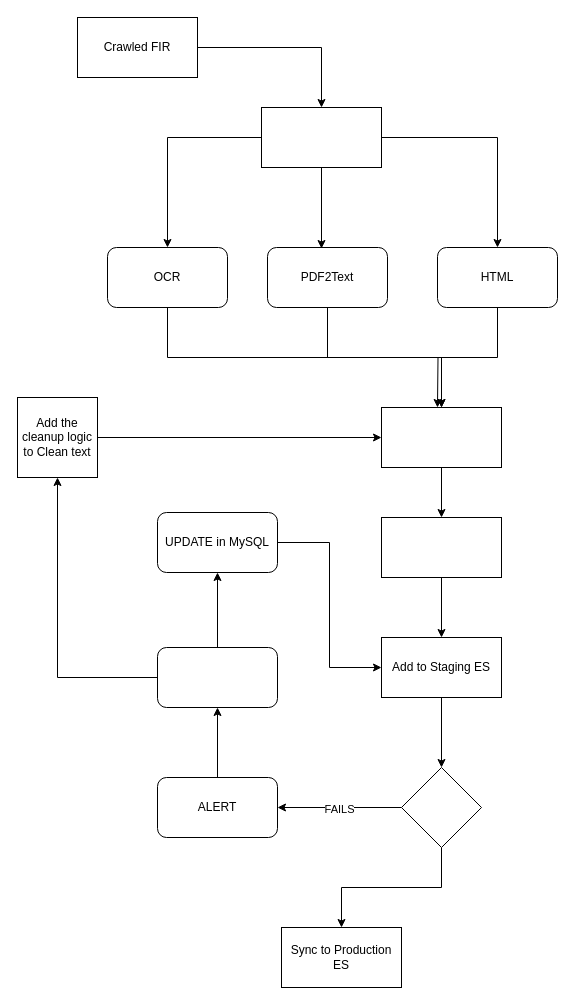
The diagram is 575 pixels wide and 1005 high, and some of its shapes have lost their labels. The shapes that lost their labels are listed below. From the top down, each one's centre as x and y in pixels, then its label:
At point 321,137: "Extract Data from FIR".
At point 441,437: "Clean the text".
At point 441,547: "INSERT to MySQL".
At point 217,677: "Clean the text for the batch in SQL".
At point 441,807: "QA".
